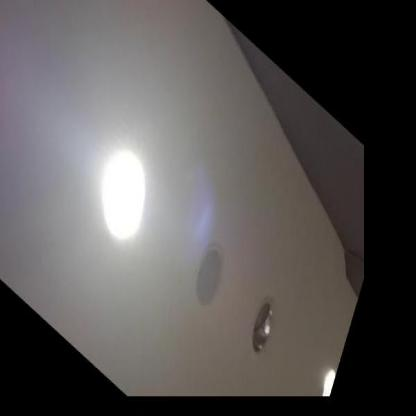light_off: (234, 270, 292, 383)
